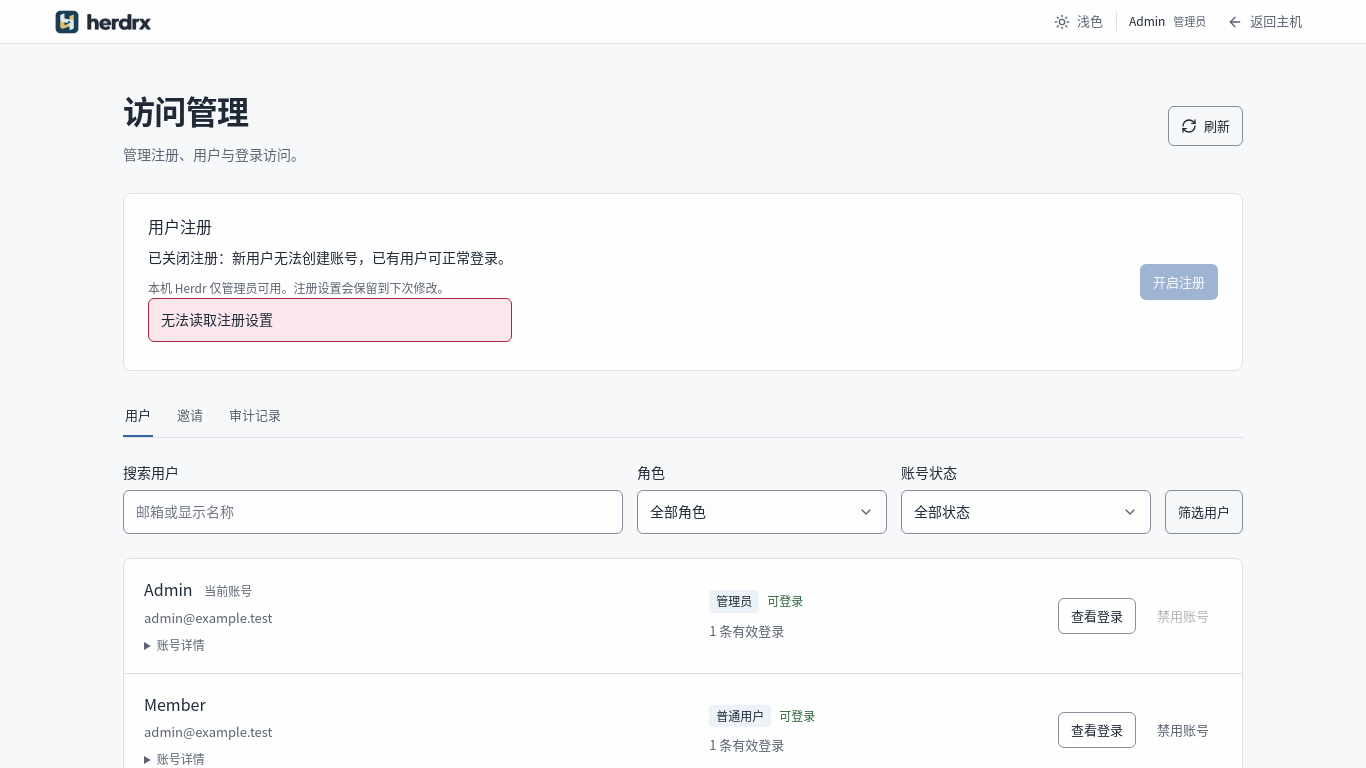
Test: blocks registration controls when settings cannot be read
Expected: the message shows "无法读取", [161,310,273,330]
Expected: the button "开启注册" is disabled, [1140,264,1218,300]
Click the button "邀请": (190, 416) [175,395,205,437]
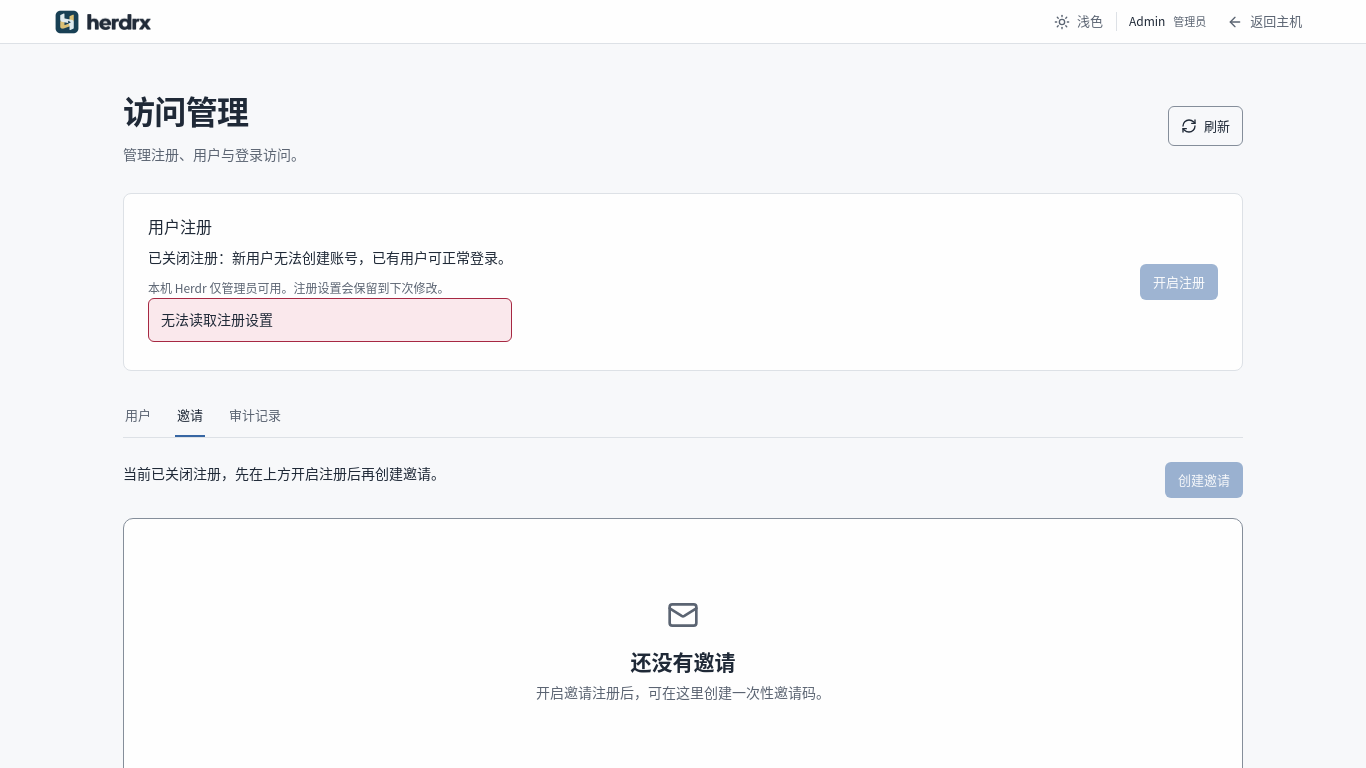
Result: the button "创建邀请" is disabled at [1165,462,1243,498]
